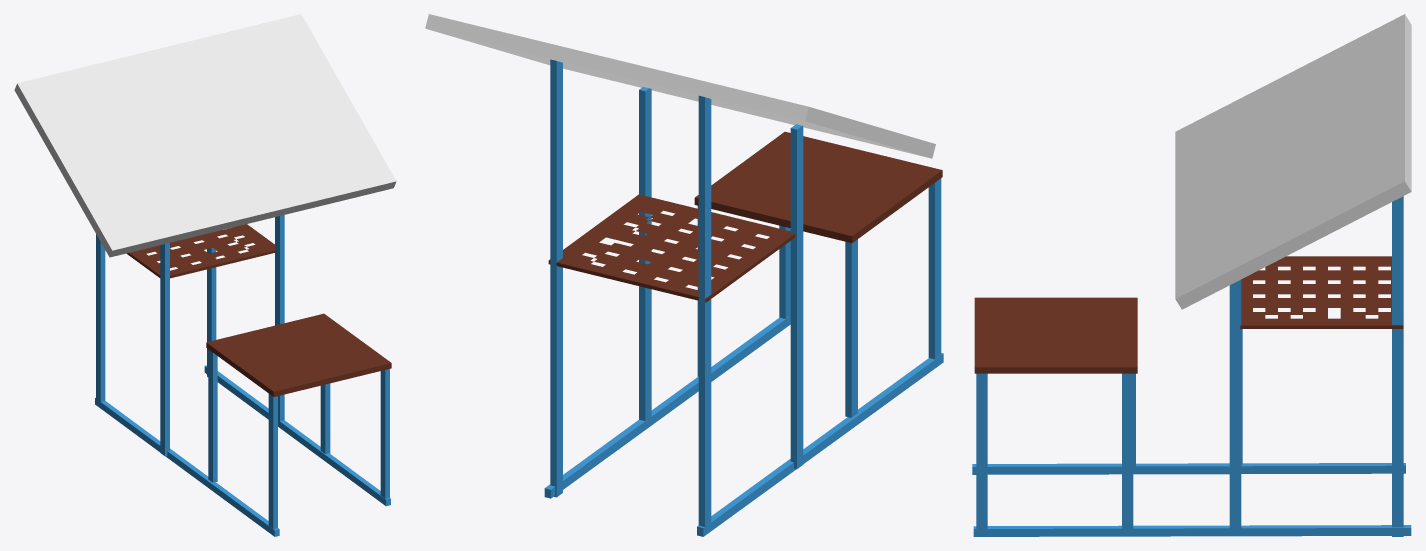
Rendered from bench 1.fbx.
The picture shows the model from 3 angles, left to right: view 1: azimuth 30°, elevation 25°; view 2: azimuth 150°, elevation 25°; view 3: azimuth 270°, elevation 25°; orthographic projection. The views are drawn at different scales.
Visible parts, largest first — view 1: Cube.001, Cube, Cube.006, Cube.002, Cube.010, Cube.011, Cube.004, Cube.005, Cube.013, Cube.009, Cube.003, Cube.007 (+1 smaller); view 2: Cube, Cube.006, Cube.001, Cube.004, Cube.007, Cube.002, Cube.010, Cube.011, Cube.003, Cube.005, Cube.013, Cube.009; view 3: Cube.001, Cube, Cube.006, Cube.011, Cube.010, Cube.007, Cube.003, Cube.012, Cube.009.
Part boxes in pixels (x1,y1,x2,y2): Cube.001: (14,14,396,257); Cube: (206,313,391,396); Cube.006: (126,224,275,278); Cube.002: (160,243,169,456); Cube.010: (95,397,279,536); Cube.011: (204,365,390,506); Cube.004: (96,234,105,406); Cube.005: (268,394,277,528); Cube.013: (208,349,217,482); Cube.009: (380,369,389,498); Cube.003: (275,215,284,421); Cube.007: (207,248,216,376); Cube: (694,131,942,243); Cube.006: (548,194,795,302); Cube.001: (425,14,935,158); Cube.004: (698,95,711,533); Cube.007: (550,59,562,497); Cube.002: (790,124,803,469); Cube.010: (697,353,943,536); Cube.011: (544,315,790,498); Cube.003: (639,87,651,421); Cube.005: (928,178,941,359); Cube.013: (845,239,857,417); Cube.009: (779,225,790,318); Cube.001: (1175,14,1411,309); Cube: (974,297,1137,373); Cube.006: (1240,256,1403,328); Cube.011: (973,525,1411,536); Cube.010: (972,463,1405,474); Cube.007: (1392,196,1403,536); Cube.003: (1229,279,1241,528); Cube.012: (1122,373,1133,536); Cube.009: (976,373,987,531).
Bounding box in the file's own units: 2241 × 2573 × 2487.
